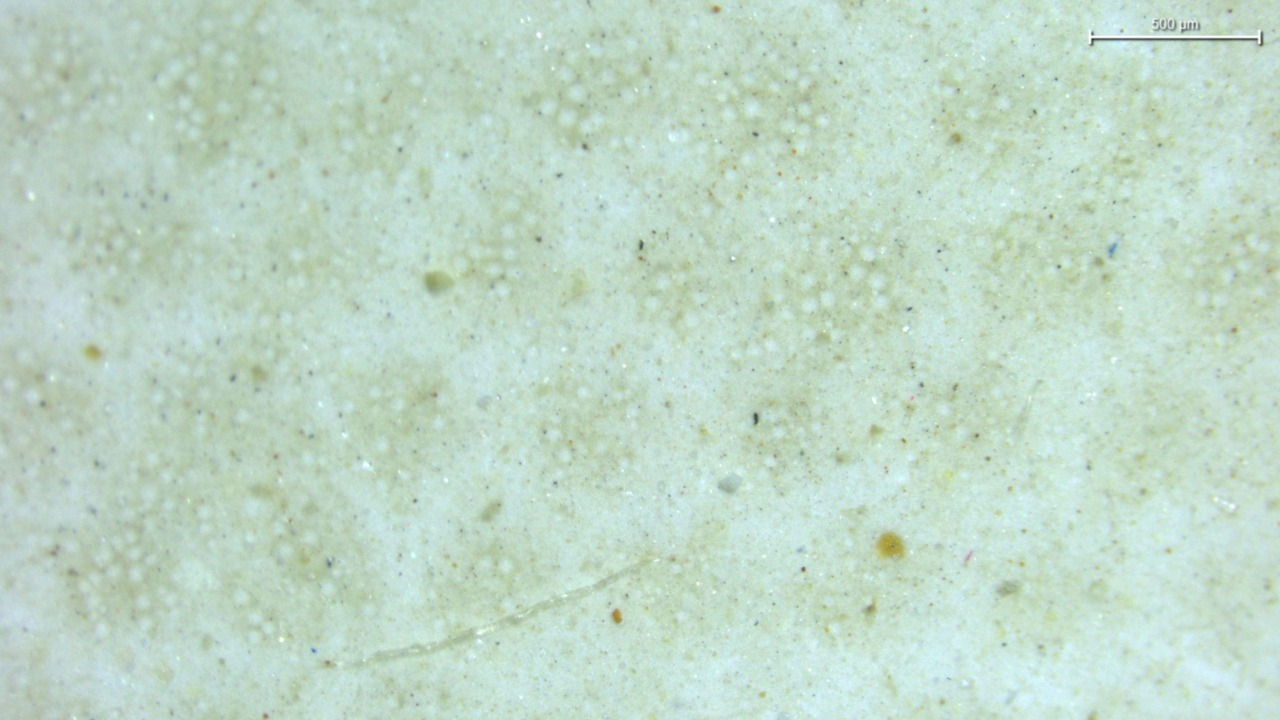microplastic_fragment: (717, 474, 742, 493)
